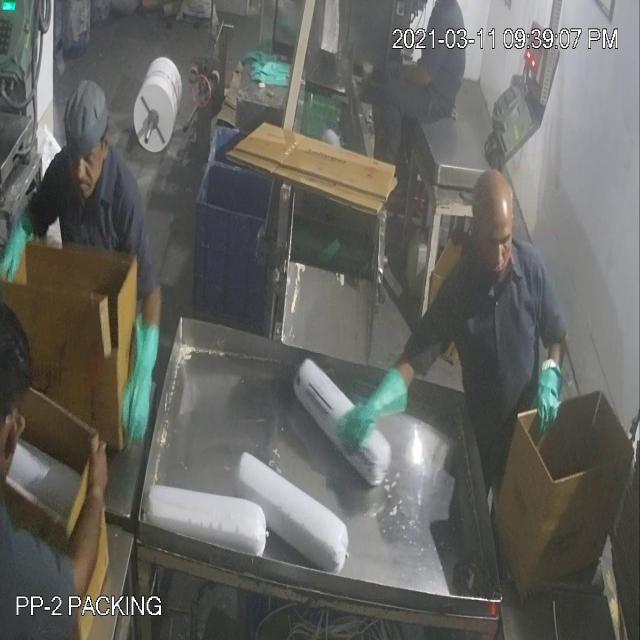gloves: (329, 364, 408, 466), (529, 348, 577, 446)
no-gloves: (389, 51, 435, 90)
